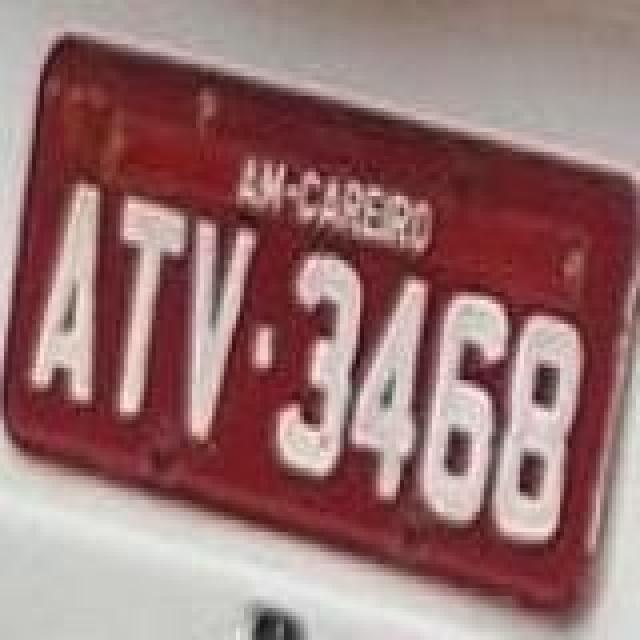3: (272, 250, 368, 486)
4: (346, 272, 430, 504)
6: (416, 290, 512, 526)
8: (484, 314, 588, 550)
A: (26, 184, 102, 408)
T: (114, 192, 190, 424)
V: (186, 220, 262, 444)
